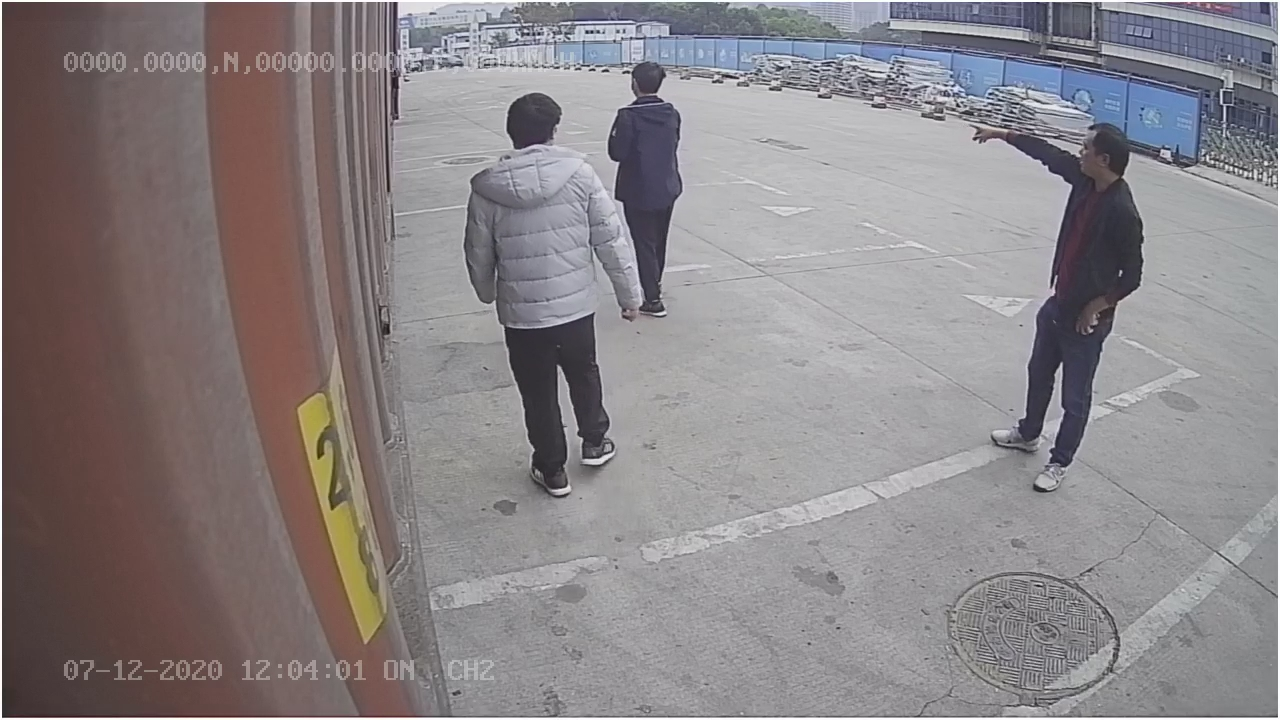person: (958, 111, 1148, 493)
